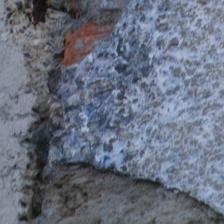Crack: (30, 78, 189, 140)
